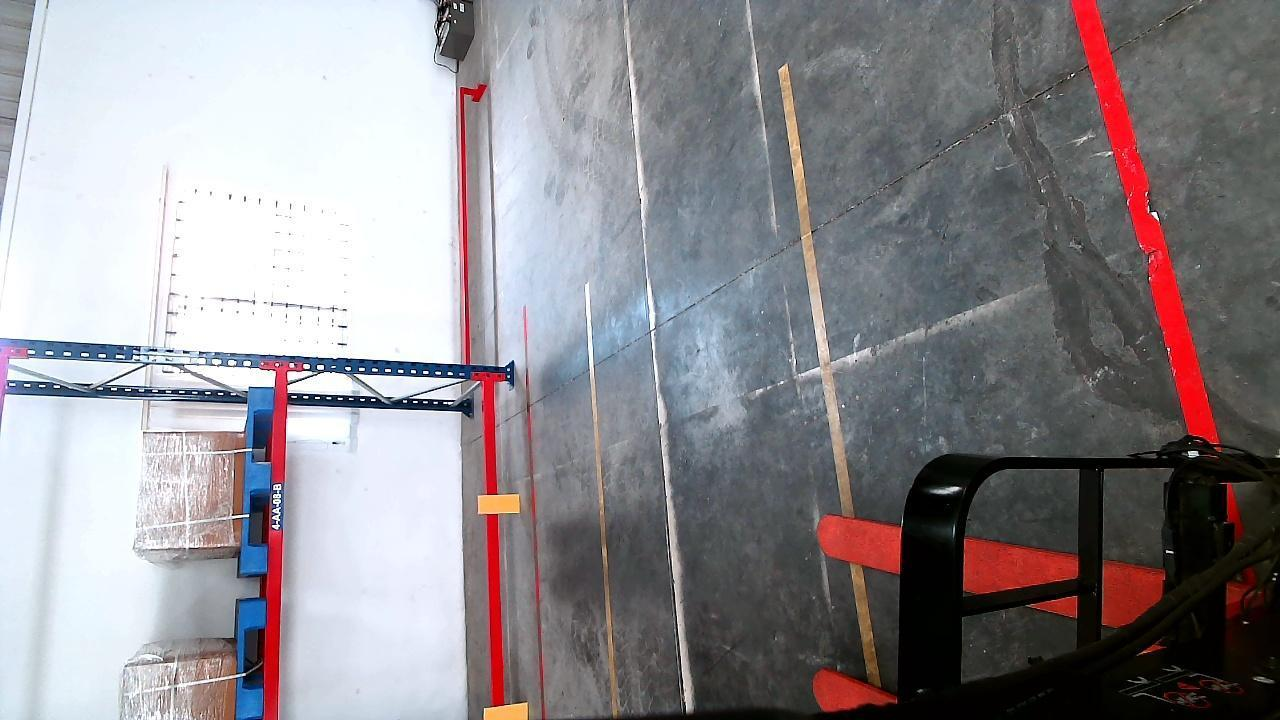h_rack: (263, 378, 290, 720), (482, 395, 508, 711)
orange_strip: (485, 698, 533, 720), (479, 491, 523, 514)
red_line: (1066, 0, 1218, 438)
small_pallet: (243, 385, 277, 574), (234, 600, 268, 720)
yellow_line: (772, 62, 883, 679), (577, 282, 624, 708)
